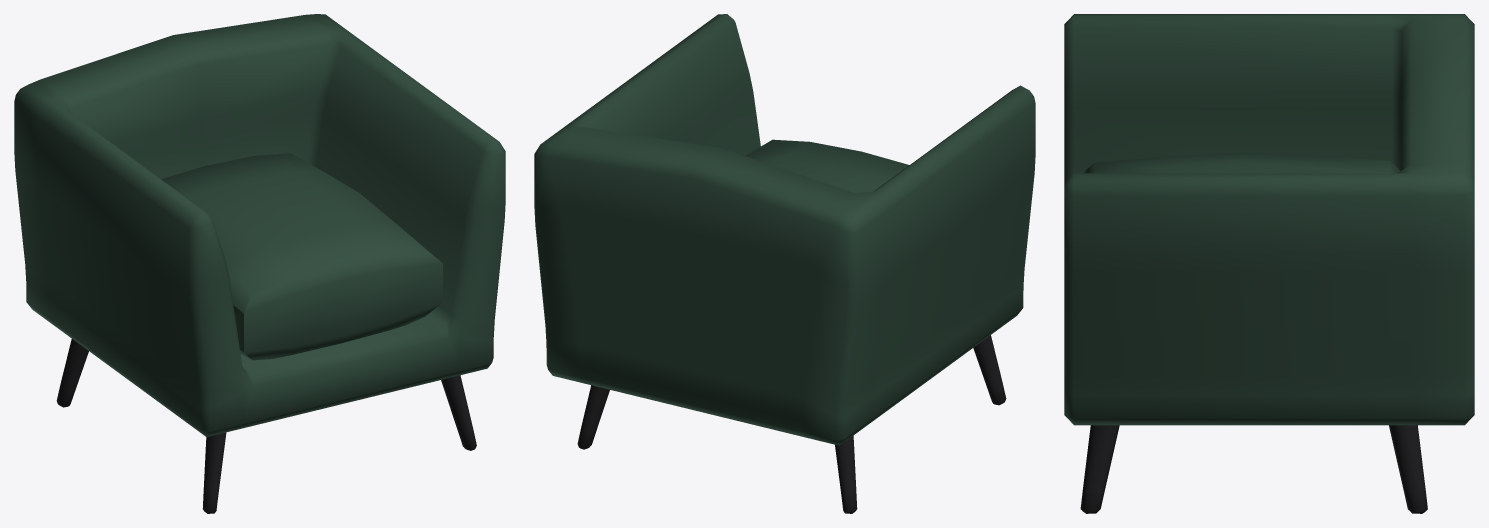
Rendered from pk_accent_green.glb.
3 views of the same model, side by side, from view 1: azimuth 30°, elevation 25°; view 2: azimuth 150°, elevation 25°; view 3: azimuth 270°, elevation 25° (orthographic). The views are drawn at different scales.
Visible parts, largest first — view 1: pk_accent_green; view 2: pk_accent_green; view 3: pk_accent_green.
Boxes of the visible parts, box(x1,y1,x2,y2) form: pk_accent_green: box(14, 14, 505, 513); pk_accent_green: box(534, 14, 1035, 513); pk_accent_green: box(1064, 14, 1474, 513).
Bounding box in the file's own units: 0.82 × 0.8 × 0.82.
1 material, 1 textured.
